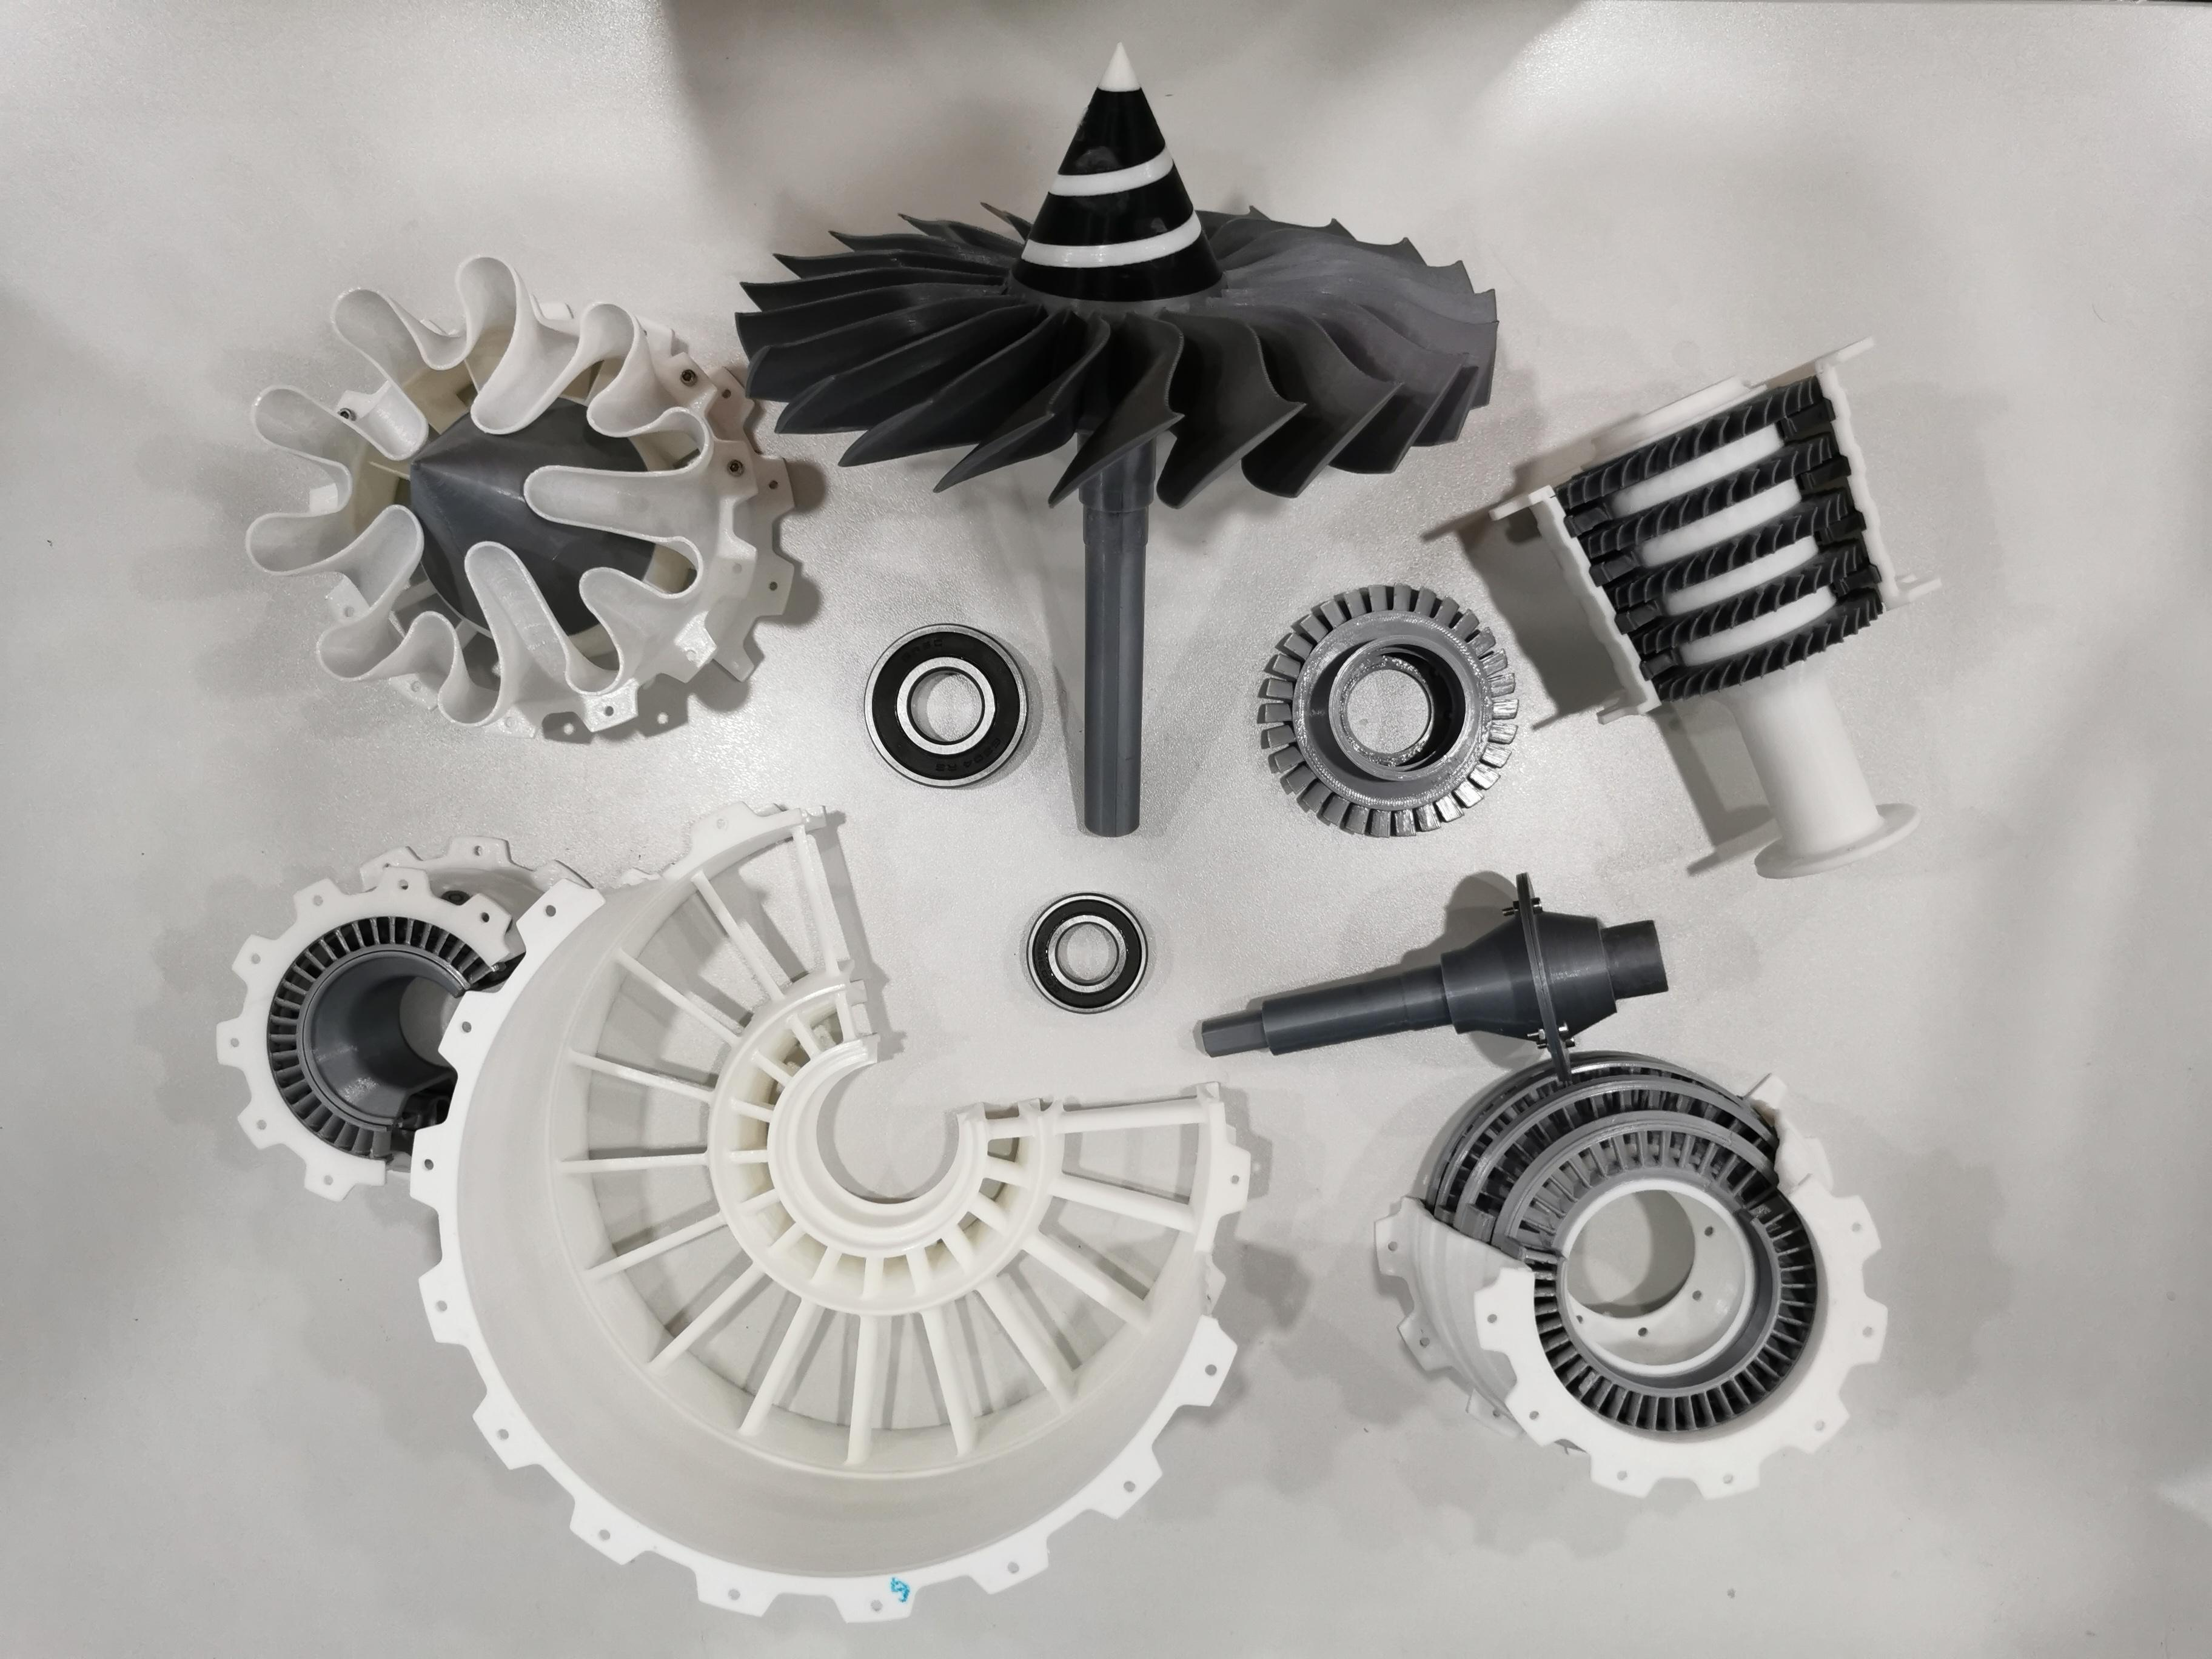Bearing-6003: (1010, 880, 1172, 1032)
Bearing-6204: (853, 603, 1047, 803)
Combustion Section: (207, 821, 603, 1215)
Fan Casing and Support: (402, 798, 1259, 1631)
Fan and Low Pressure Shaft: (728, 33, 1505, 845)
HPT Section: (1238, 563, 1543, 856)
High Pressure Spool: (1480, 315, 1956, 885)
LPT Section: (1366, 1047, 1898, 1506)
Low Pressure Spool: (1186, 864, 1677, 1086)
Nozzle Section: (232, 239, 808, 753)
